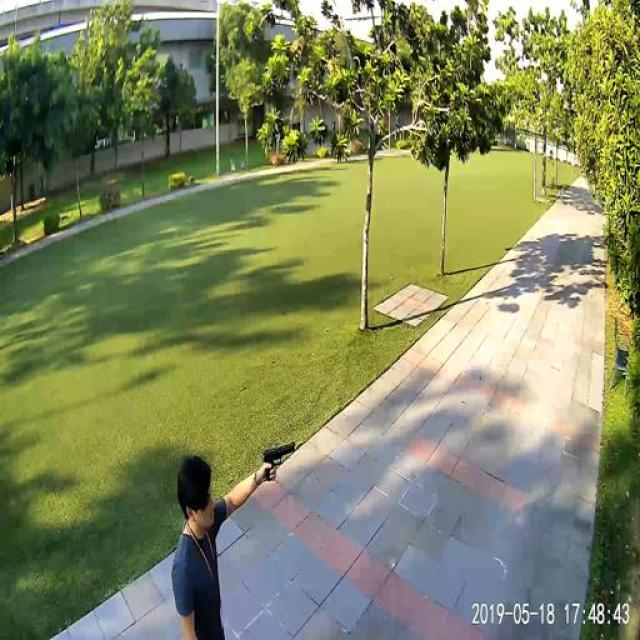Gun: (254, 428, 300, 491)
